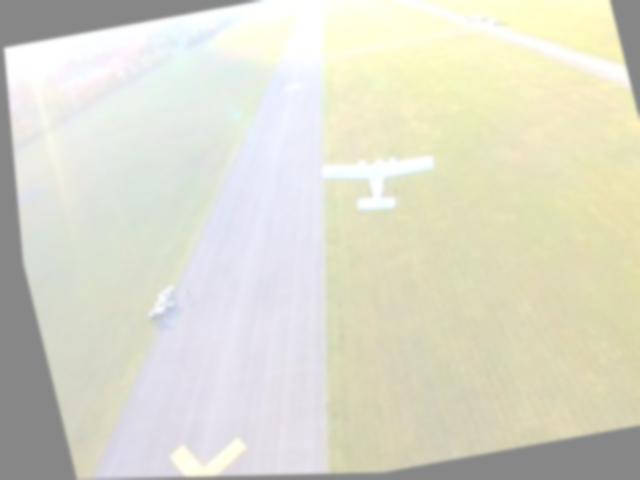uav: (314, 142, 440, 218)
